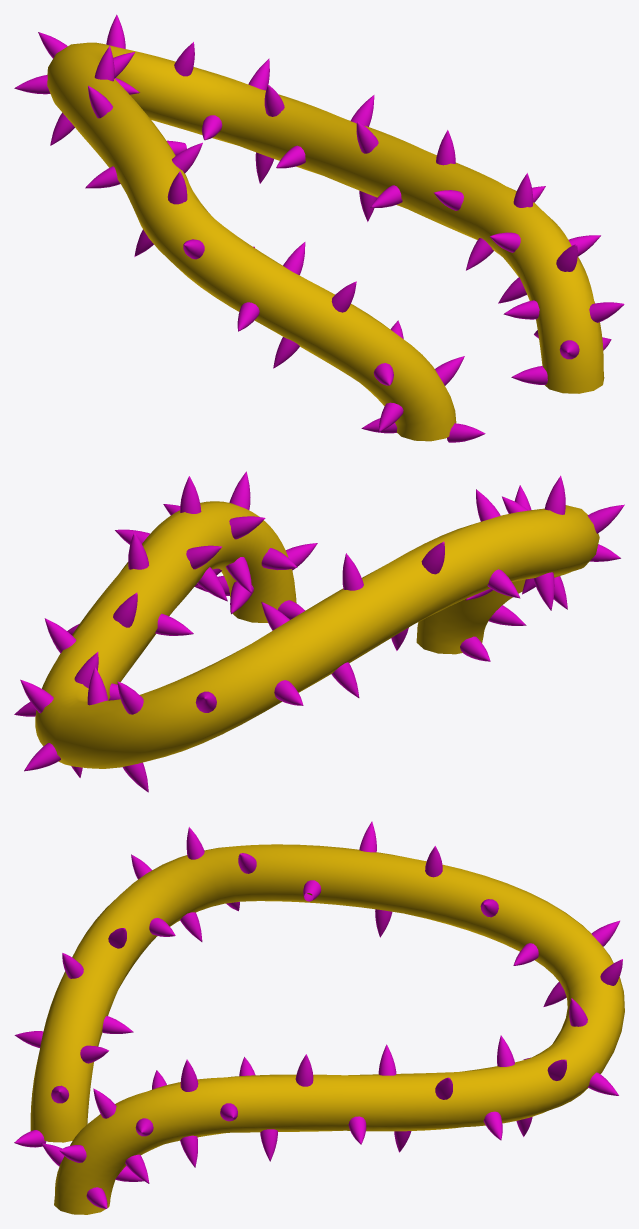
The model's file is Vine2.fbx.
The picture shows the model from 3 angles, top to bottom: view 1: azimuth 30°, elevation 25°; view 2: azimuth 150°, elevation 25°; view 3: azimuth 270°, elevation 25°; orthographic projection. The views are drawn at different scales.
Visible parts, largest first — view 1: Bramble1; view 2: Bramble1; view 3: Bramble1.
Boxes of the visible parts, left/top/right/bottom form: Bramble1: left=14, top=14, right=624, bottom=442; Bramble1: left=14, top=471, right=624, bottom=792; Bramble1: left=14, top=821, right=624, bottom=1214.
Size of the model in its own units: 800 by 483 by 1093.
